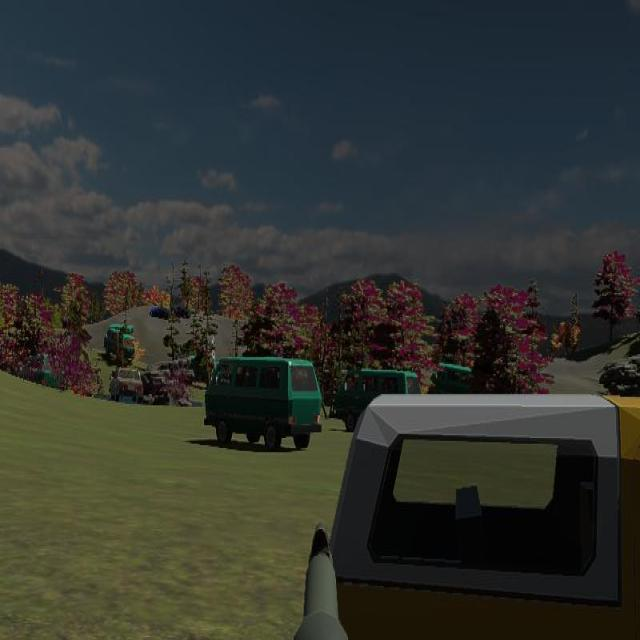car: (204, 355, 322, 451), (335, 367, 420, 433), (431, 362, 473, 398), (109, 366, 144, 404), (104, 325, 136, 359)
